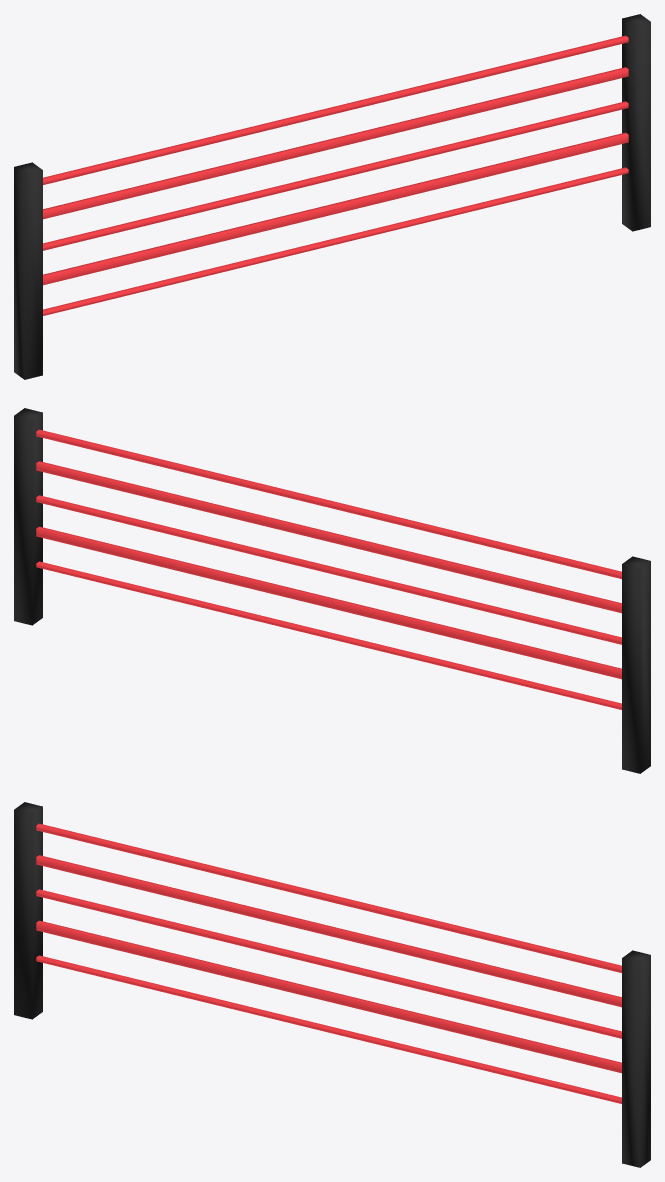
Rendered from laserWallAnimated.glb.
The picture shows the model from 3 angles, top to bottom: view 1: azimuth 30°, elevation 25°; view 2: azimuth 150°, elevation 25°; view 3: azimuth 330°, elevation 25°; orthographic projection.
Visible parts, largest first — view 1: LaserWallAnimated, LaserBeam4, LaserBeam2, LaserBeam1, LaserBeam3, LaserBeam5; view 2: LaserWallAnimated, LaserBeam4, LaserBeam2, LaserBeam1, LaserBeam3, LaserBeam5; view 3: LaserWallAnimated, LaserBeam4, LaserBeam2, LaserBeam1, LaserBeam3, LaserBeam5.
Part boxes in pixels (box(x1,y1,x2,y2)): LaserWallAnimated: box(14, 14, 650, 379); LaserBeam4: box(43, 132, 628, 285); LaserBeam2: box(43, 67, 628, 219); LaserBeam1: box(43, 35, 628, 184); LaserBeam3: box(43, 101, 628, 250); LaserBeam5: box(43, 167, 628, 315); LaserWallAnimated: box(14, 408, 650, 773); LaserBeam4: box(36, 526, 621, 679); LaserBeam2: box(36, 461, 621, 613); LaserBeam1: box(36, 429, 621, 578); LaserBeam3: box(36, 495, 621, 644); LaserBeam5: box(36, 561, 621, 709); LaserWallAnimated: box(14, 802, 650, 1167); LaserBeam4: box(36, 920, 621, 1073); LaserBeam2: box(36, 855, 621, 1007); LaserBeam1: box(36, 823, 621, 972); LaserBeam3: box(36, 889, 621, 1038); LaserBeam5: box(36, 955, 621, 1103).
Size of what is drawn, in the model's own units: 6.39 by 2 by 0.1875.
Materials: 2 (2 with a texture image).
